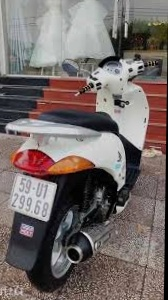Bien-so: (4, 172, 60, 225)
